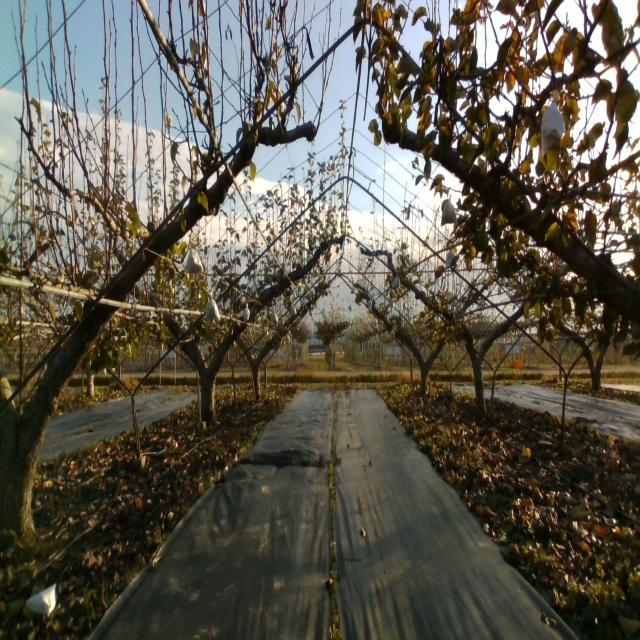pearbags: (540, 90, 566, 158), (441, 195, 457, 226), (204, 292, 221, 321), (186, 247, 204, 274), (445, 248, 458, 270)
